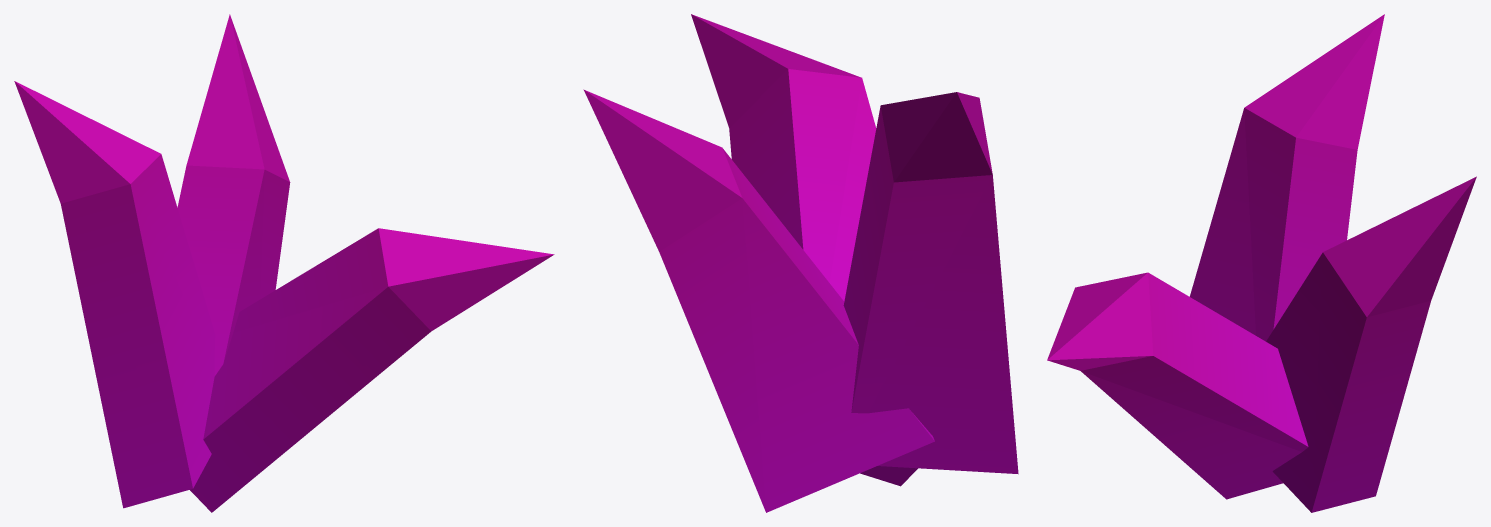
The model's file is SM_Plant_Grass_01.gltf.
3 renders of one model, left to right at view 1: azimuth 30°, elevation 25°; view 2: azimuth 150°, elevation 25°; view 3: azimuth 270°, elevation 25°, orthographic. The views are drawn at different scales.
Visible parts, largest first — view 1: SM_Plant_Grass_01; view 2: SM_Plant_Grass_01; view 3: SM_Plant_Grass_01.
Boxes of the visible parts, box(x1,y1,x2,y2) form: SM_Plant_Grass_01: box(14, 14, 554, 512); SM_Plant_Grass_01: box(583, 14, 1018, 512); SM_Plant_Grass_01: box(1047, 14, 1476, 512).
Size of the model in its own units: 2.99e-05 by 3.06e-05 by 2.82e-05.
